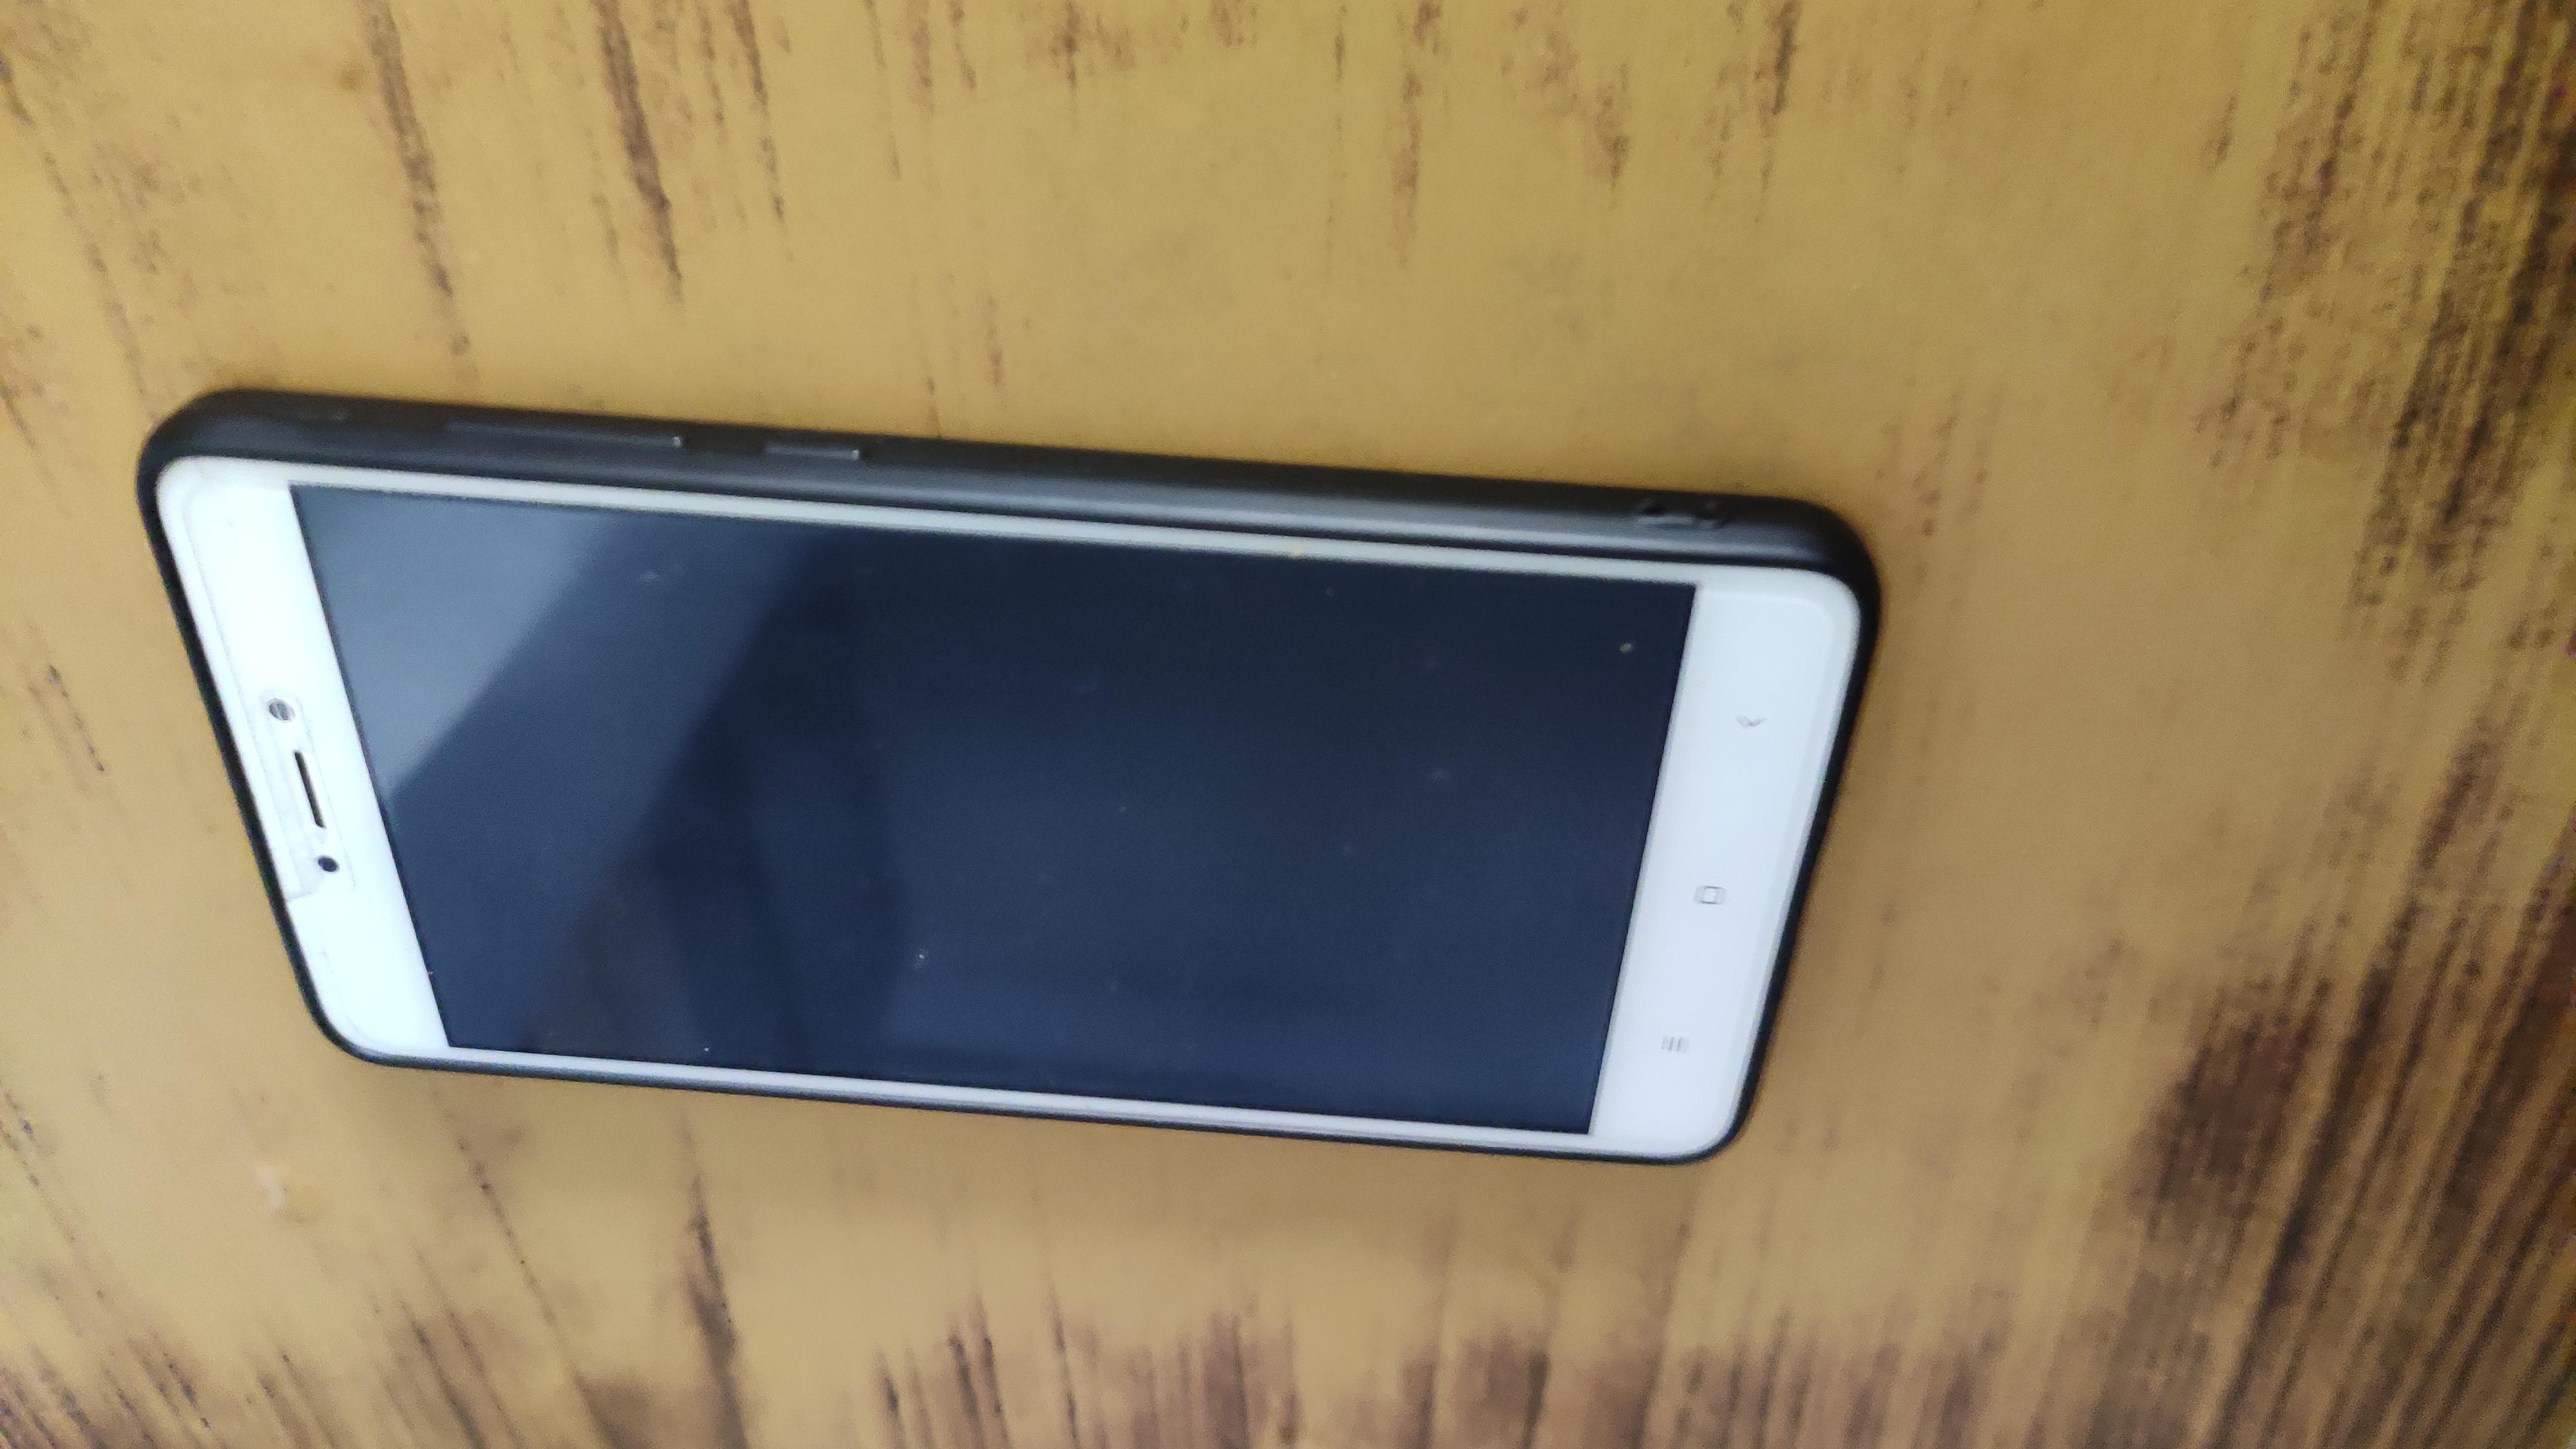Phone: (83, 336, 1902, 1217)
